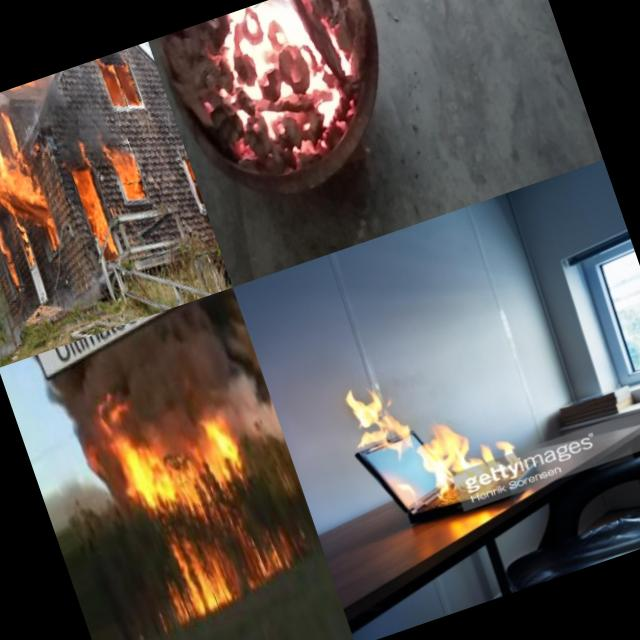fire: (187, 0, 377, 182), (344, 350, 535, 528), (94, 370, 252, 521), (152, 504, 300, 630), (0, 118, 61, 260), (65, 160, 120, 264), (94, 125, 150, 209), (93, 49, 143, 116), (0, 73, 58, 116), (0, 225, 26, 292)
smoke: (38, 321, 214, 424), (191, 286, 284, 452), (26, 72, 112, 152), (61, 412, 121, 504), (0, 138, 23, 361), (46, 266, 108, 322)
